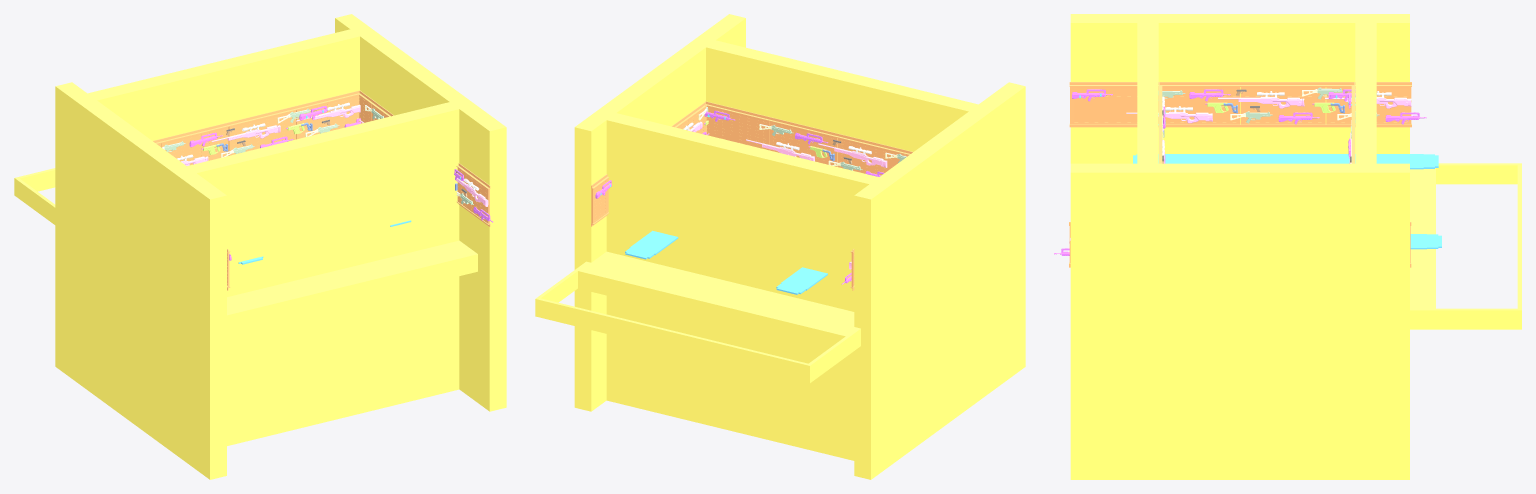
Rendered from narmurerie.glb.
3 views of the same model, side by side, from view 1: azimuth 30°, elevation 25°; view 2: azimuth 150°, elevation 25°; view 3: azimuth 270°, elevation 25° (orthographic). The views are drawn at different scales.
Parts seen in each view (by area): view 1: Center__4_, Center__3_, Center__2_, Center__1_, Center, prop_4__2_, prop_4__1_, prop_4__3_, prop_4__3__2, Border_3, Border; view 2: Center__1_, Center__3_, Center__4_, Center__2_, Center, Border, prop_4_1, prop_4__1__1, prop_4__2__1, Border_3, prop_3_3, prop_3 (+2 smaller); view 3: Center__2_, Center__3_, Center, Center__4_, Center__1_, prop_4__2__3, prop_4_3, prop_3, prop_4__1__3, Border_2, prop_4__3__3, Border_3 (+2 smaller).
Boxes of the visible parts, x1,y1,x2,y2 form: Center__4_: (184,101,460,445); Center__3_: (55,82,226,479); Center__2_: (335,14,506,411); Center__1_: (88,29,359,140); Center: (227,240,477,332); prop_4__2_: (228,106,296,155); prop_4__1_: (160,122,229,165); prop_4__3_: (296,90,359,139); prop_4__3__2: (456,163,490,226); Border_3: (16,178,55,224); Border: (14,168,55,196); Center__1_: (606,113,881,460); Center__3_: (854,82,1025,479); Center__4_: (705,40,981,151); Center__2_: (574,14,745,411); Center: (578,251,857,349); Border: (535,297,811,383); prop_4_1: (705,101,770,150); prop_4__1__1: (769,117,837,166); prop_4__2__1: (836,133,905,175); Border_3: (809,328,860,381); prop_3_3: (625,230,678,259); prop_3: (776,267,827,294); Center__2_: (1070,163,1409,479); Center__3_: (1070,14,1409,163); Center: (1410,168,1435,308); Center__4_: (1137,21,1158,164); Center__1_: (1355,23,1376,164); prop_4__2__3: (1240,82,1326,127); prop_4_3: (1069,82,1137,127); prop_3: (1133,154,1438,169); prop_4__1__3: (1158,82,1240,127); Border_2: (1410,308,1517,329); prop_4__3__3: (1326,82,1411,127); Border_3: (1436,163,1517,184).
Size of the model in its own units: 885 by 800 by 1104.
